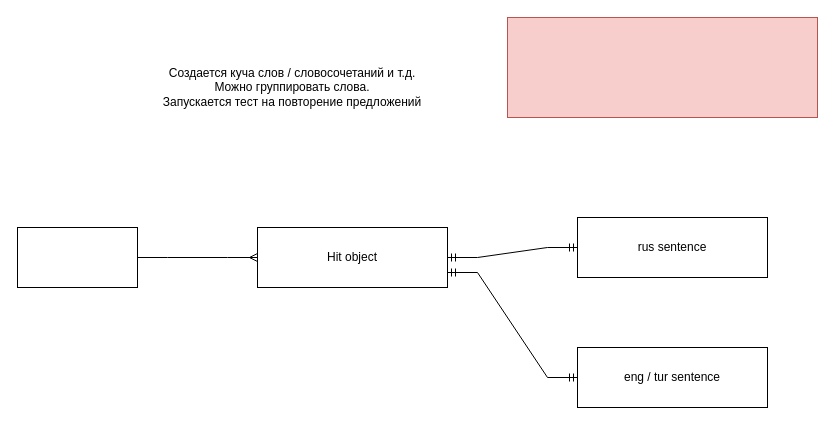
The diagram is 835 pixels wide and 425 high, and some of its shapes have lost their labels. The shapes that lost their labels are listed below. From the top down, each one's centre as x and y in pixels, then its label:
the point at 662,67: Hit содержит только одну пару предложений
the point at 77,257: Word
